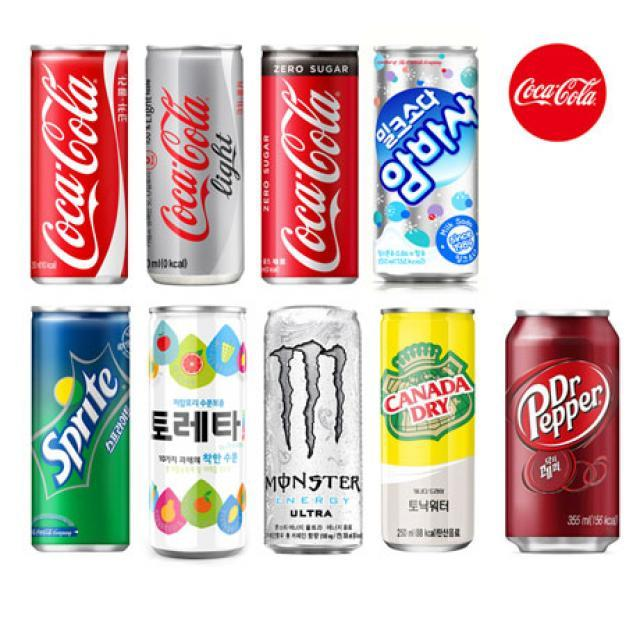coca-cola: (256, 40, 364, 292), (23, 38, 132, 286)
